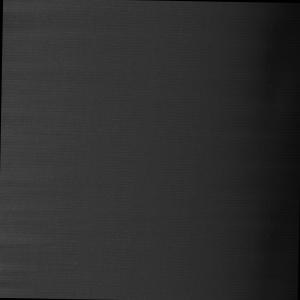Wrinkle: (1, 104, 64, 299), (2, 1, 101, 80)
